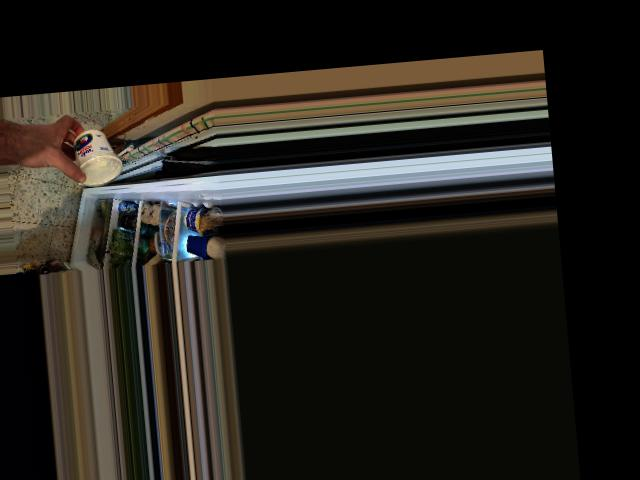cotage: (67, 126, 126, 178)
